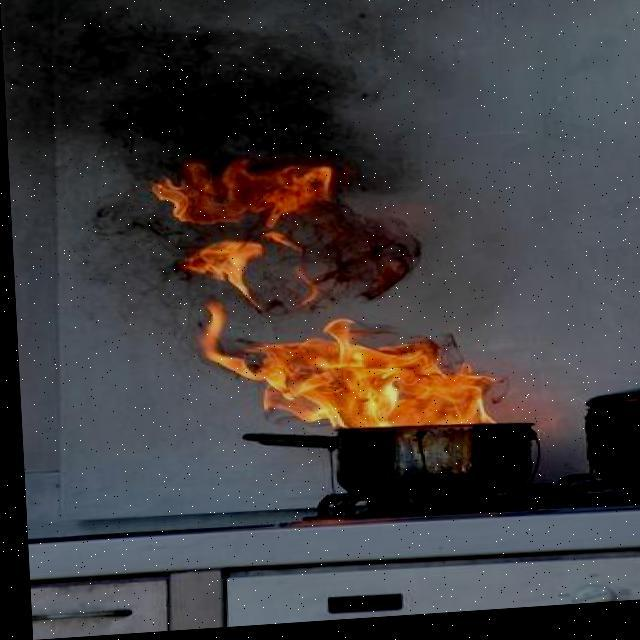Fire: (69, 107, 594, 482)
